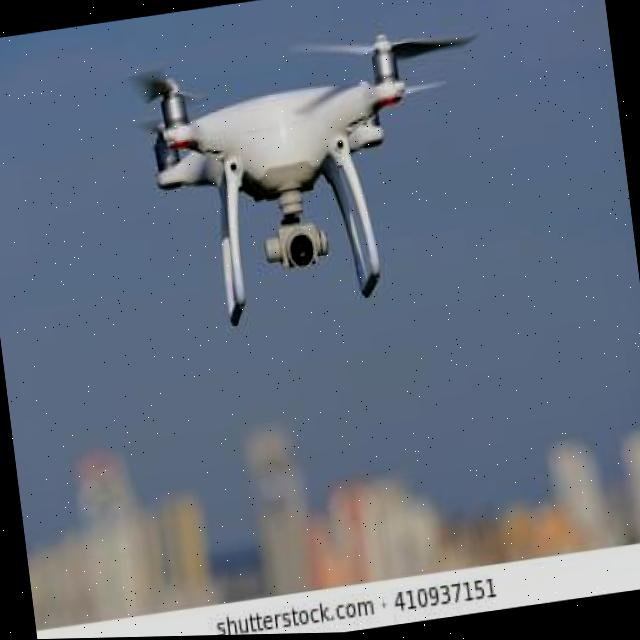drone: (88, 0, 516, 349)
